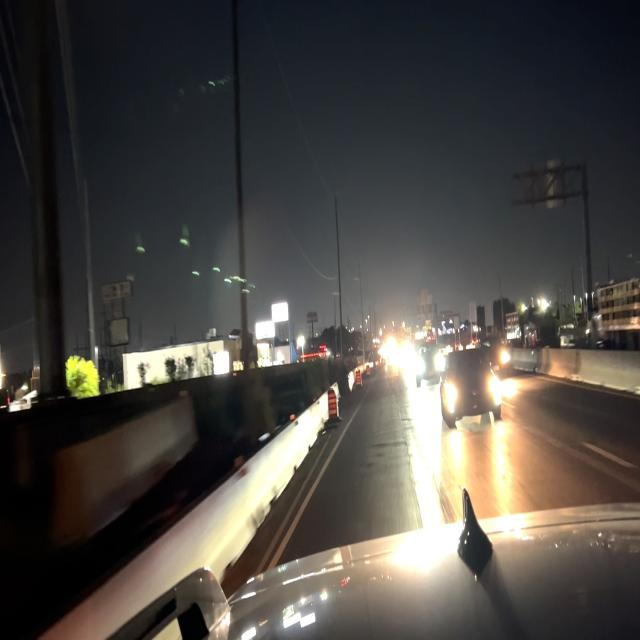back-of-sign: (510, 156, 587, 213)
